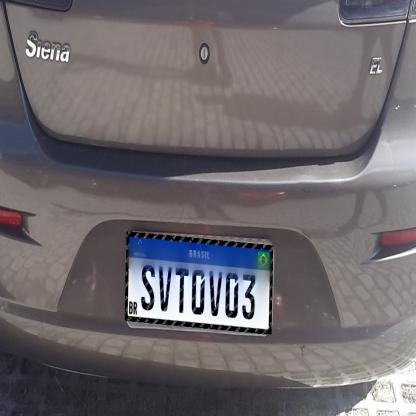PlacaM: (125, 232, 273, 335)
